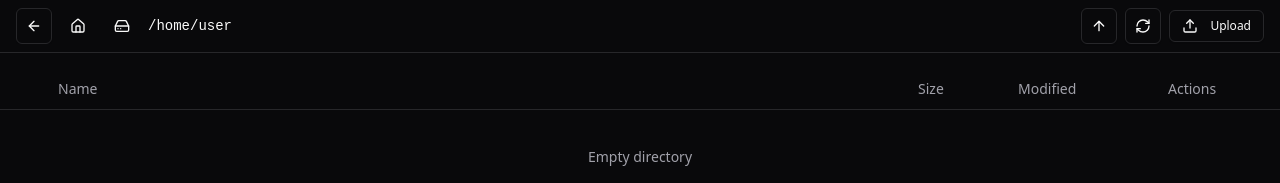
FileList initial user directory › preserves an explicit root visit after opening home
expect the link "/home/user" is shown: met, box [148, 16, 232, 36]
Click the button named "My Computer".
click(122, 26)  # box [104, 8, 140, 44]
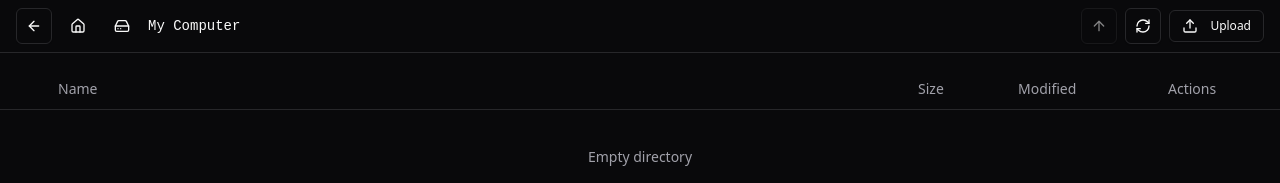
expect the link "My Computer" is shown: met, box [148, 16, 240, 36]
